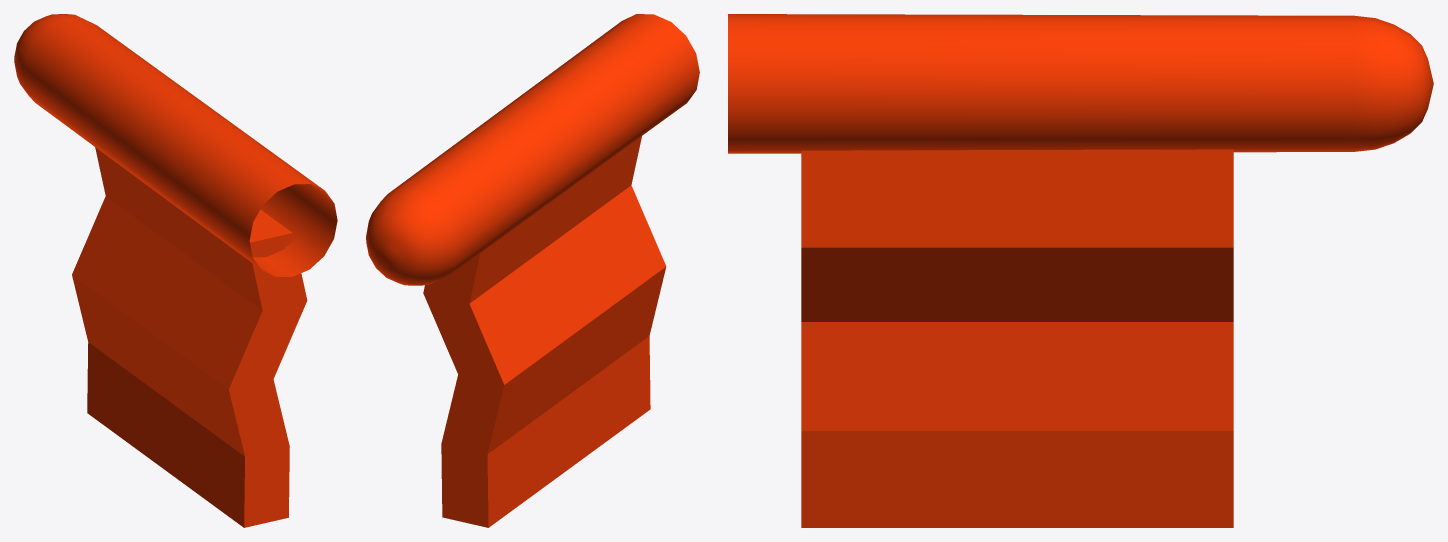
File: Key_Bottom.FBX
3 renders of one model, left to right at view 1: azimuth 30°, elevation 25°; view 2: azimuth 150°, elevation 25°; view 3: azimuth 270°, elevation 25°, orthographic. The views are drawn at different scales.
Parts seen in each view (by area): view 1: Ellipse01; view 2: Ellipse01; view 3: Ellipse01.
Boxes of the visible parts, x1,y1,x2,y2 form: Ellipse01: (14, 14, 337, 527); Ellipse01: (366, 14, 699, 527); Ellipse01: (728, 14, 1433, 527).
Size of the model in its own units: 1.75 by 6.81 by 8.84.
